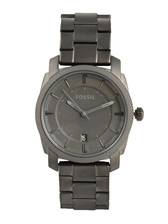watch: (36, 12, 146, 214)
